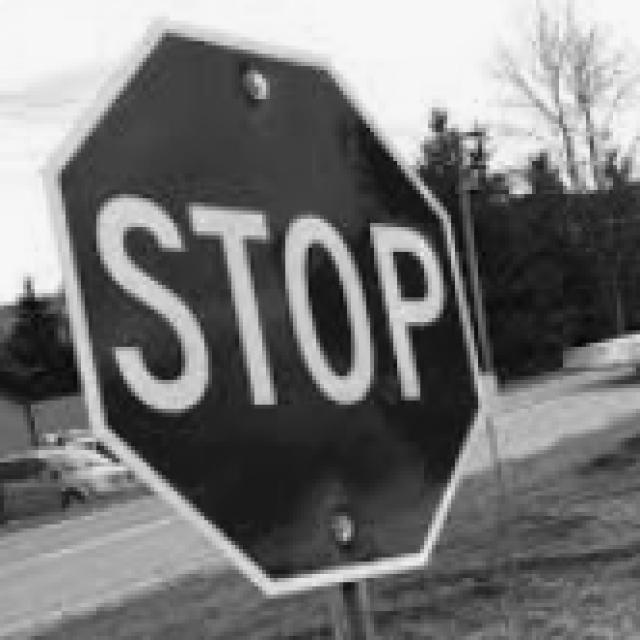Stop-signs: (44, 16, 485, 595)
